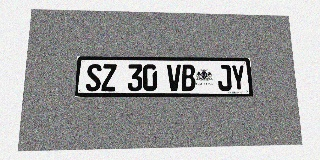0: (143, 64, 157, 91)
3: (128, 64, 142, 91)
B: (181, 64, 196, 91)
J: (217, 65, 232, 91)
S: (86, 64, 102, 91)
V: (167, 64, 181, 91)
Y: (231, 65, 246, 91)
Z: (101, 64, 117, 91)
